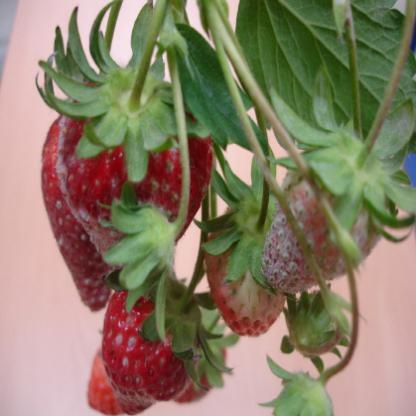Strawberry_Powdery_Mildew_Fruit: (56, 73, 215, 274), (260, 138, 398, 296), (41, 115, 116, 312), (100, 273, 204, 415)
